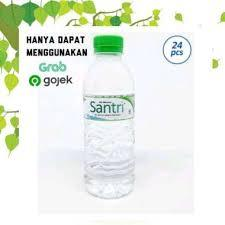BIODEGRADABLE: (64, 35, 154, 207)
